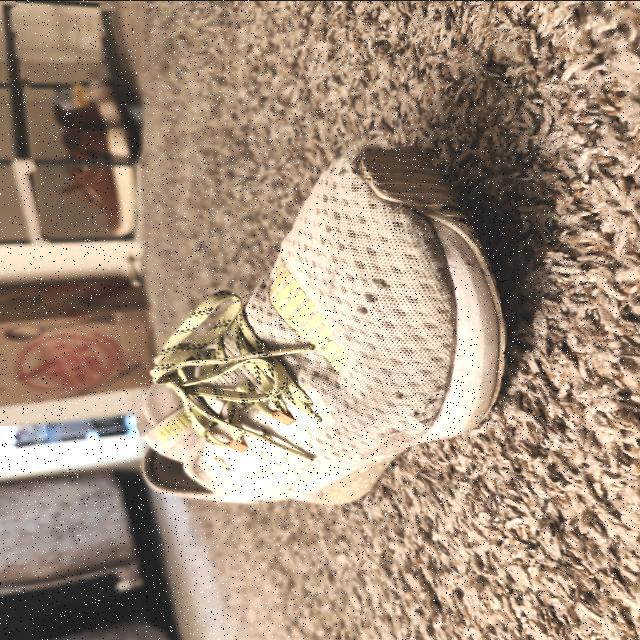white shoes: (160, 154, 490, 472)
